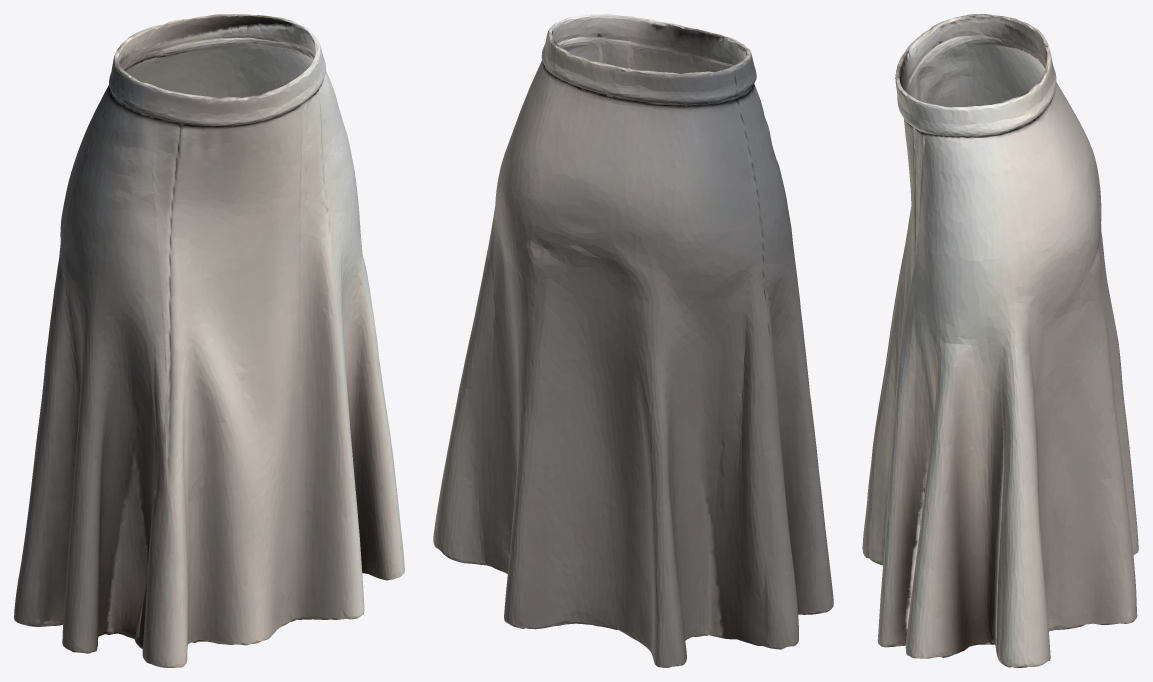
Rendered from skirt.glb.
3 renders of one model, left to right at view 1: azimuth 30°, elevation 25°; view 2: azimuth 150°, elevation 25°; view 3: azimuth 270°, elevation 25°, orthographic. The views are drawn at different scales.
Visible parts, largest first — view 1: world; view 2: world; view 3: world.
Boxes of the visible parts, <box> form: world: <box>14,14,404,667</box>; world: <box>433,14,833,667</box>; world: <box>862,14,1138,667</box>.
Bounding box in the file's own units: 1.35 × 1.99 × 0.9012.
Materials: 1 (1 with a texture image).
